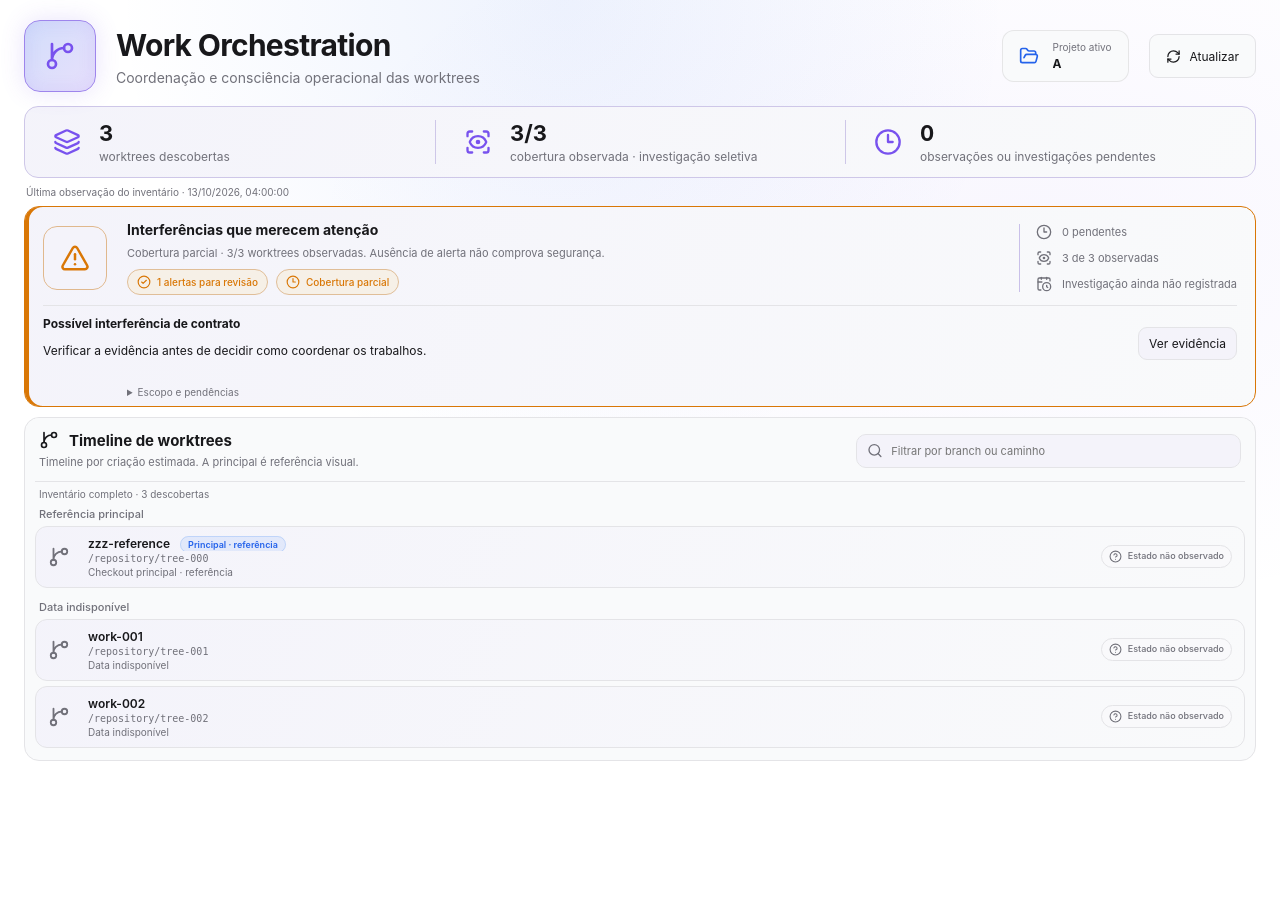
it: reveals already discovered evidence at its chronological position while preserving the filter
This screenshot has width=1280, height=900.
Expected: the text "Inventário completo · 3 descobertas" is shown, [39,488,209,500]
Type "work-001" into the field named "Filtrar worktrees". click: (1061, 451)
box: [891,435,1230,467]
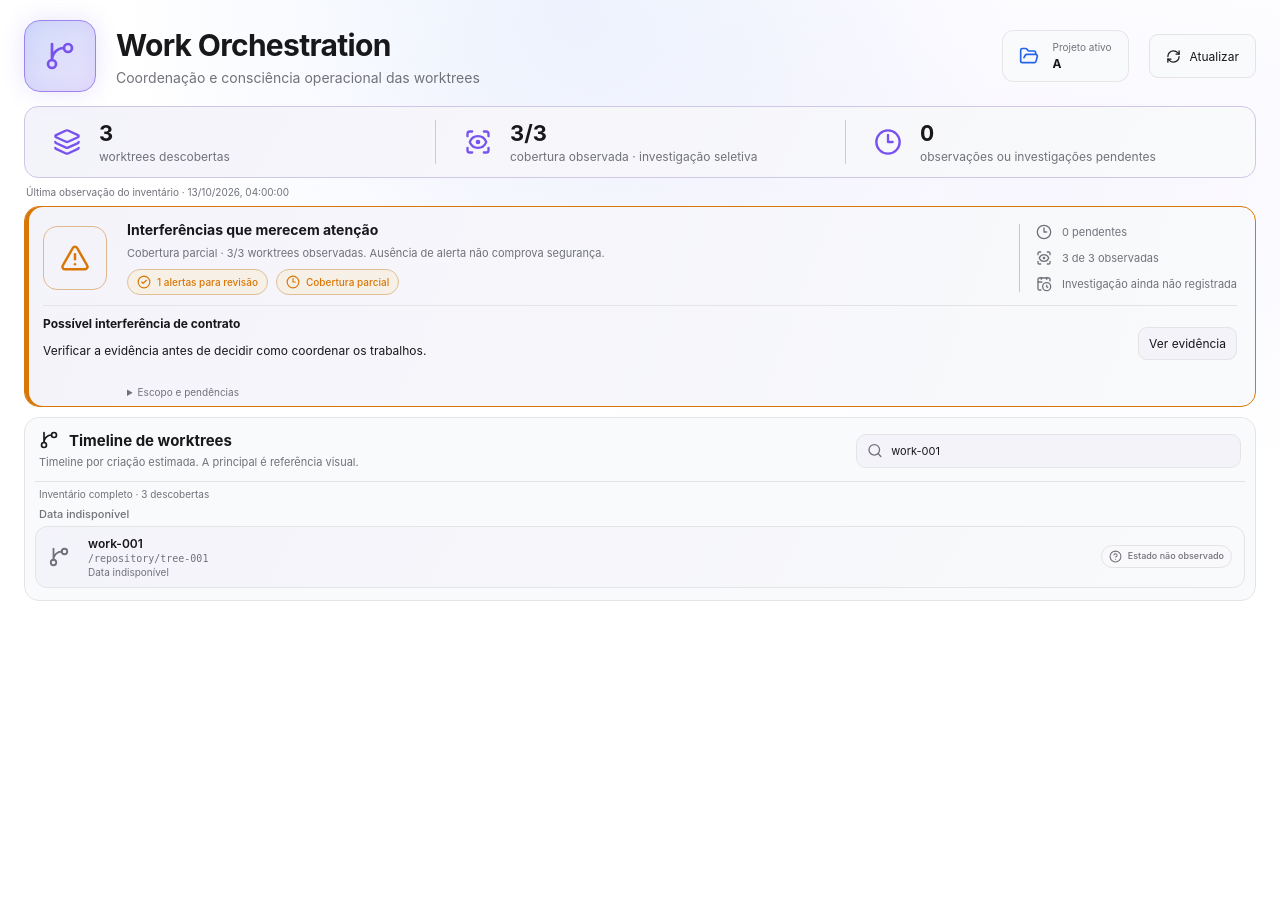
Result: the number of buttons with class "wo-tree" is 1 at [35,526,1245,588]
Click the button "Ver evidência". click: (1188, 343)
box: [1138,327,1237,360]
(page scrolled)
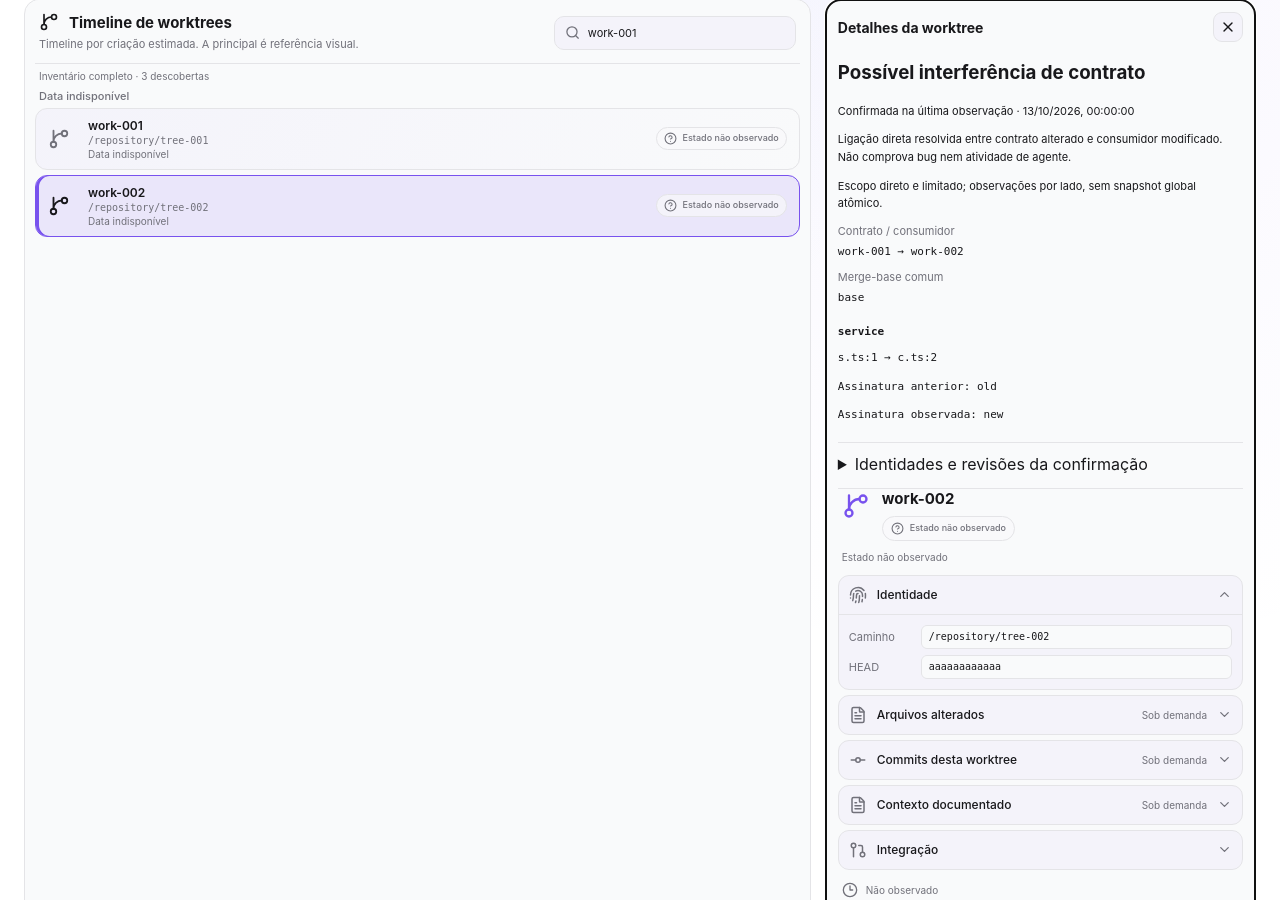
Result: the element named "Evidência de interferência estrutural" is shown at [838,61,1243,489]
Click the button named "Fechar inspetor". click: (1228, 27)
box: [1213,12,1243,42]
(page scrolled)
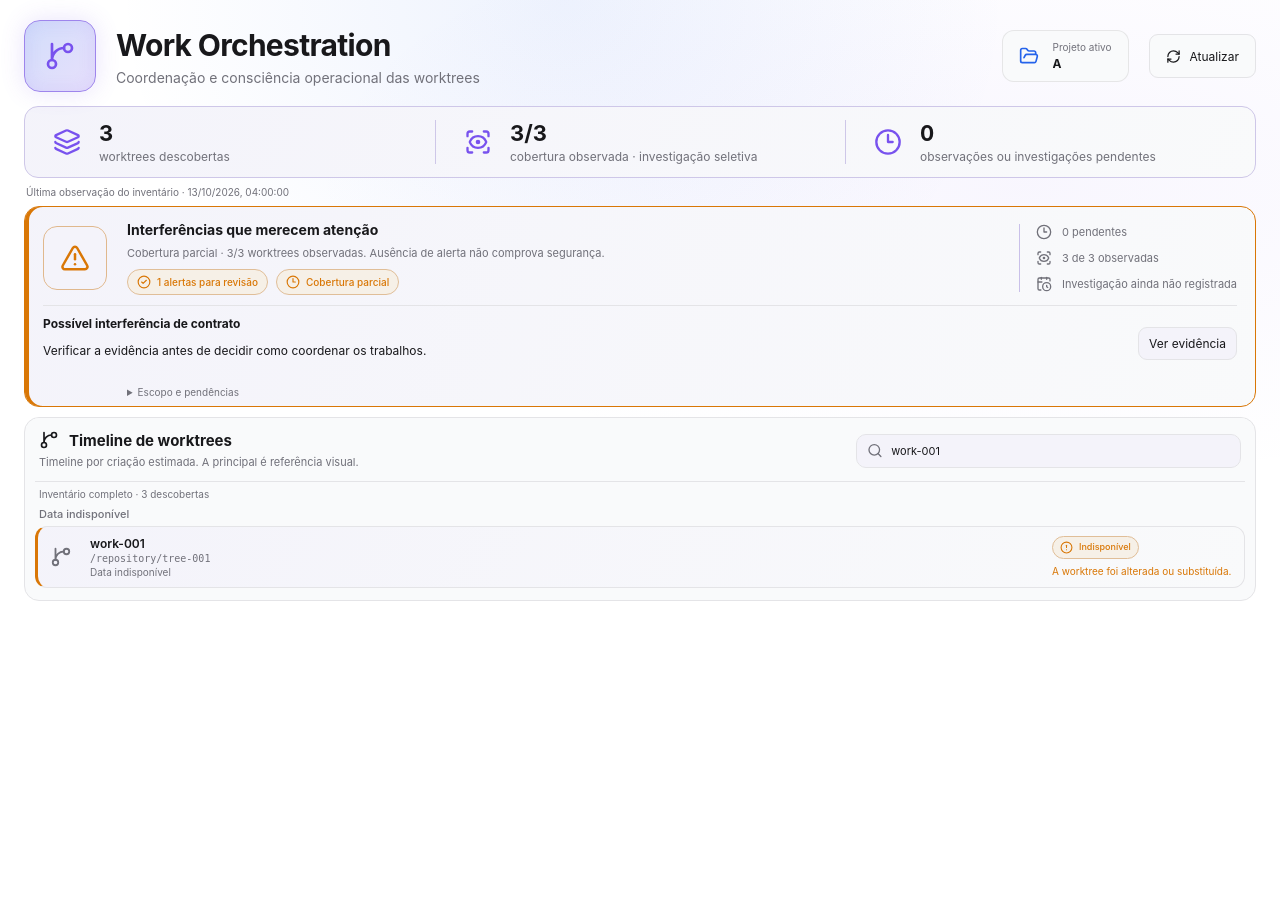
Result: the number of buttons with class "wo-tree" is 1 at [35,526,1245,588]
